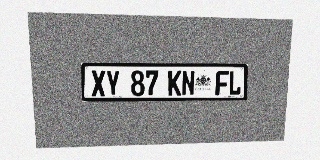7: (145, 70, 158, 96)
8: (131, 70, 145, 96)
F: (215, 71, 229, 95)
K: (168, 70, 181, 96)
L: (228, 71, 242, 95)
N: (181, 71, 195, 96)
X: (91, 70, 106, 96)
Y: (106, 70, 120, 96)
